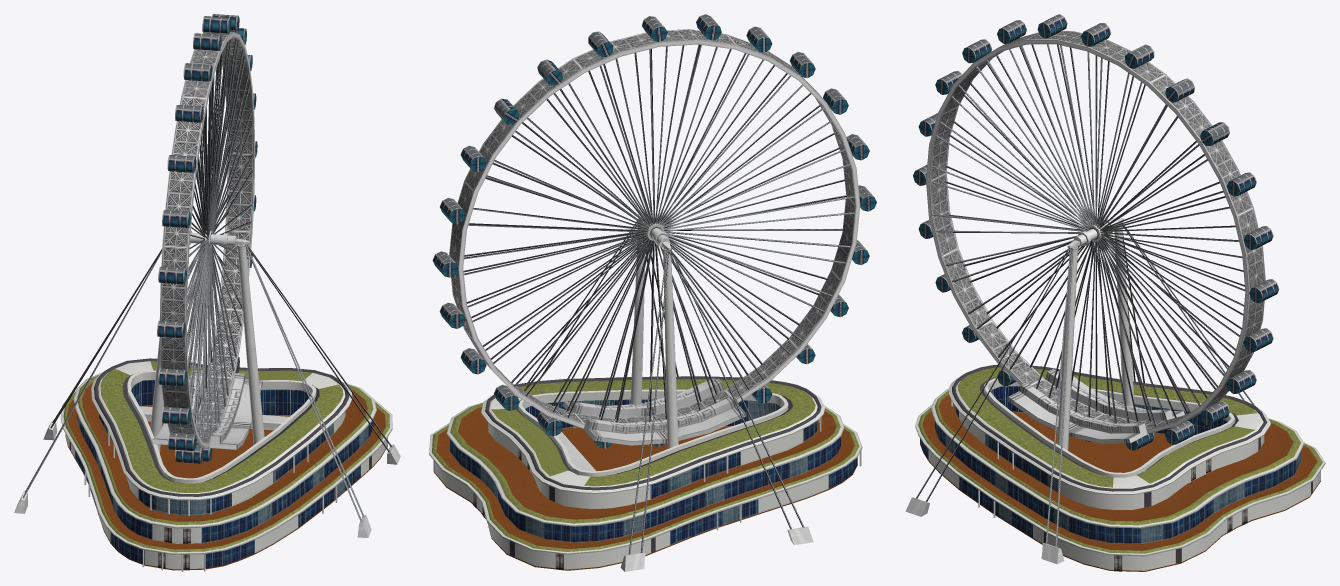
The model's file is Singapore_track_landmark_01.dae.
3 views of the same model, side by side, from view 1: azimuth 30°, elevation 25°; view 2: azimuth 150°, elevation 25°; view 3: azimuth 270°, elevation 25° (orthographic). The views are drawn at different scales.
Parts seen in each view (by area): view 1: Singapore_track_landmark_01; view 2: Singapore_track_landmark_01; view 3: Singapore_track_landmark_01.
Boxes of the visible parts, bbox=[...] form: Singapore_track_landmark_01: bbox=[14, 14, 400, 571]; Singapore_track_landmark_01: bbox=[429, 14, 876, 571]; Singapore_track_landmark_01: bbox=[905, 14, 1325, 571].
Bounding box in the file's own units: 19.74 × 19.48 × 23.12.
Materials: 1 (1 with a texture image).
